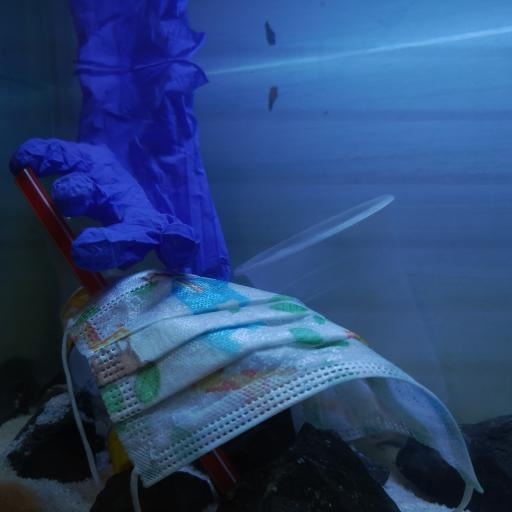bottle_cap: (106, 442, 132, 470)
glove: (14, 58, 233, 280)
mask: (60, 270, 482, 498)
plastic_bottle: (55, 241, 141, 473)
plastic_cup: (235, 194, 450, 410)
plastic_straw: (13, 165, 236, 489)
